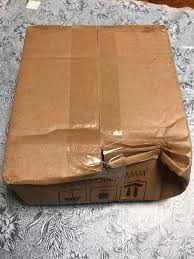damaged package: (103, 140, 192, 183), (72, 145, 101, 184)
